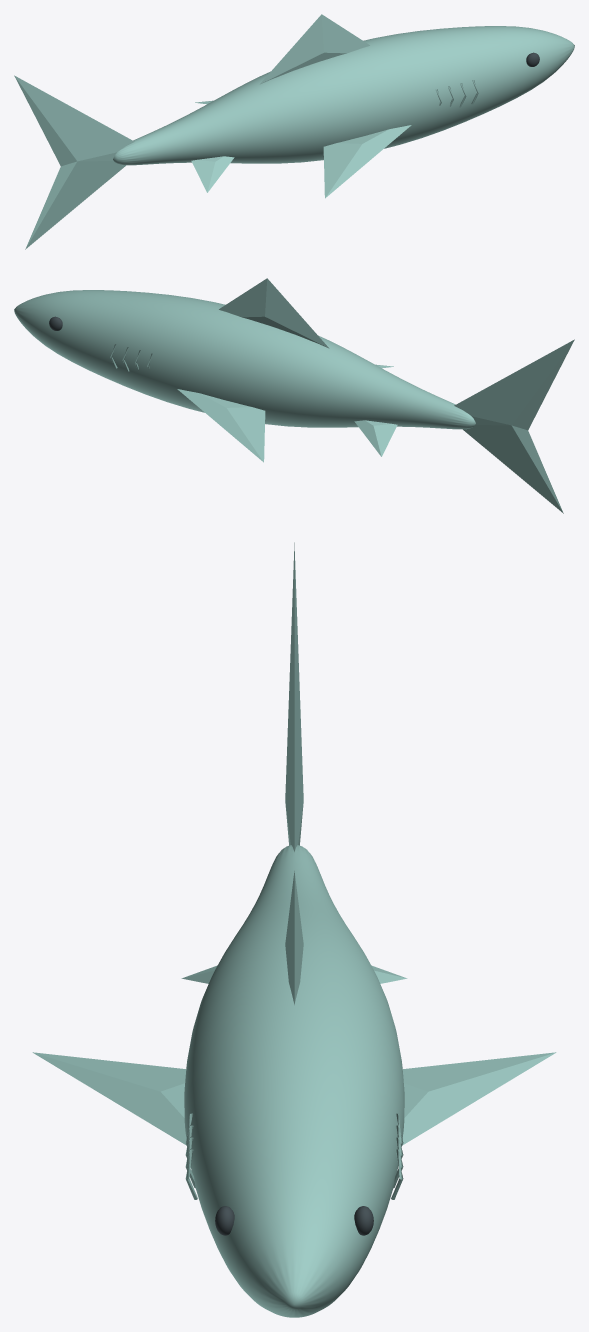
3 renders of one model, top to bottom at view 1: azimuth 30°, elevation 25°; view 2: azimuth 150°, elevation 25°; view 3: azimuth 270°, elevation 25°, orthographic. The views are drawn at different scales.
Visible parts, largest first — view 1: Body, Tail, Dorsal, Pectoral, Pelvic; view 2: Body, Tail, Dorsal, Pectoral.001, Pelvic.001; view 3: Body, Pectoral.001, Pectoral, Tail, Dorsal.
Part boxes in pixels (<box>): Body: <box>113,26,574,165</box>; Tail: <box>14,75,134,249</box>; Dorsal: <box>259,14,369,84</box>; Pectoral: <box>323,125,411,198</box>; Pelvic: <box>191,156,234,192</box>; Body: <box>14,290,475,429</box>; Tail: <box>454,339,574,513</box>; Dorsal: <box>219,278,329,348</box>; Pectoral.001: <box>177,389,265,462</box>; Pelvic.001: <box>354,420,397,456</box>; Body: <box>184,845,404,1317</box>; Pectoral.001: <box>402,1052,556,1145</box>; Pectoral: <box>32,1052,186,1145</box>; Tail: <box>285,542,303,851</box>; Dorsal: <box>285,871,303,1004</box>.
Size of the model in its own units: 252 by 76 by 102.
